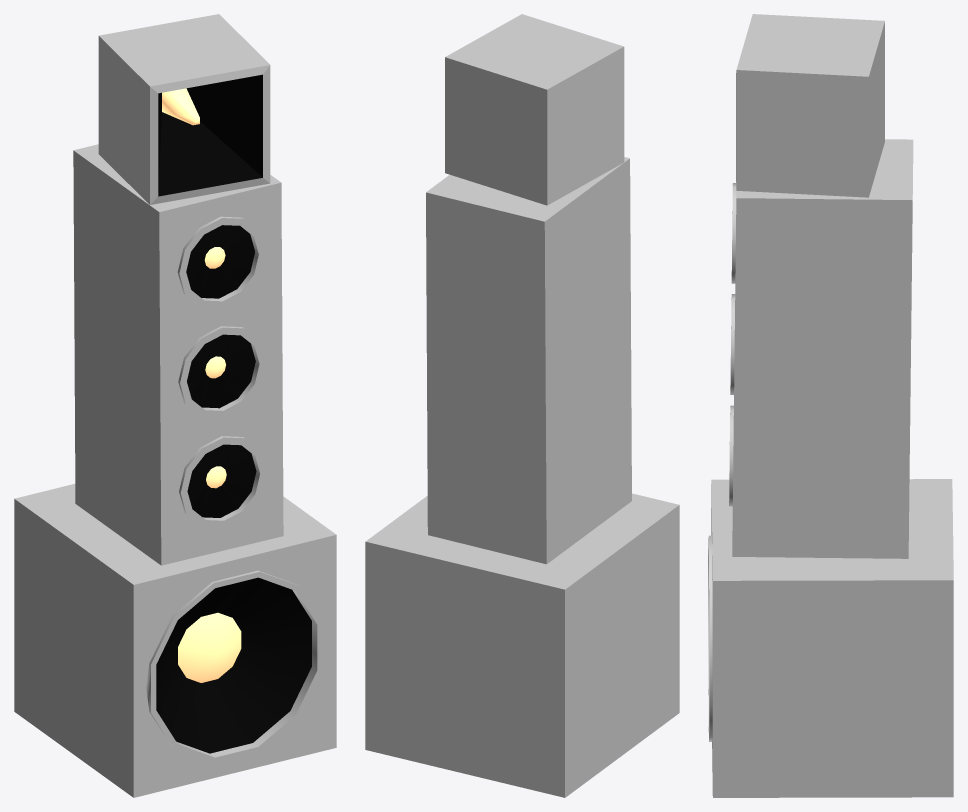
Rendered from SpeakersSet.glb.
3 views of the same model, side by side, from view 1: azimuth 30°, elevation 25°; view 2: azimuth 150°, elevation 25°; view 3: azimuth 270°, elevation 25° (orthographic). The views are drawn at different scales.
Parts seen in each view (by area): view 1: Box114; view 2: Box114; view 3: Box114.
Boxes of the visible parts, <box> form: Box114: <box>14,14,336,797</box>; Box114: <box>365,14,679,797</box>; Box114: <box>708,14,953,797</box>.
Bounding box in the file's own units: 0.8904 × 2.86 × 0.9074.
